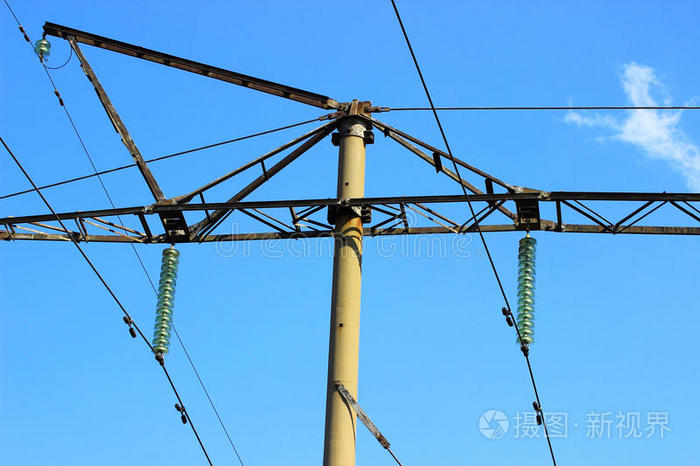insulator: (153, 249, 181, 354), (516, 234, 539, 347)
